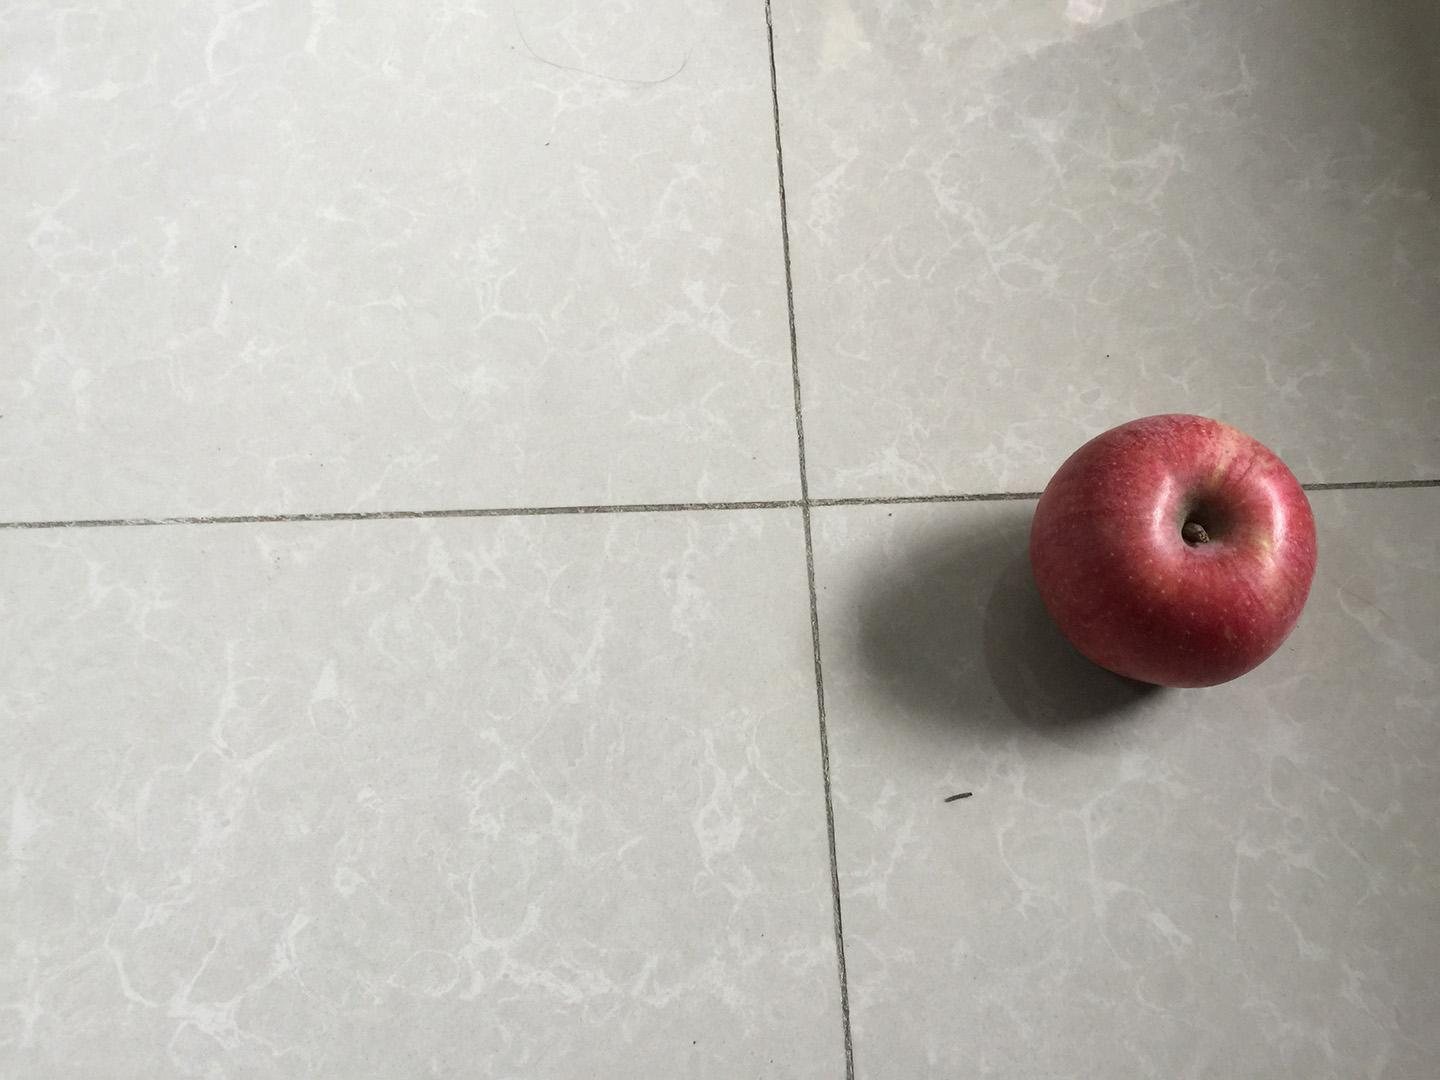apple: (1025, 408, 1327, 695)
